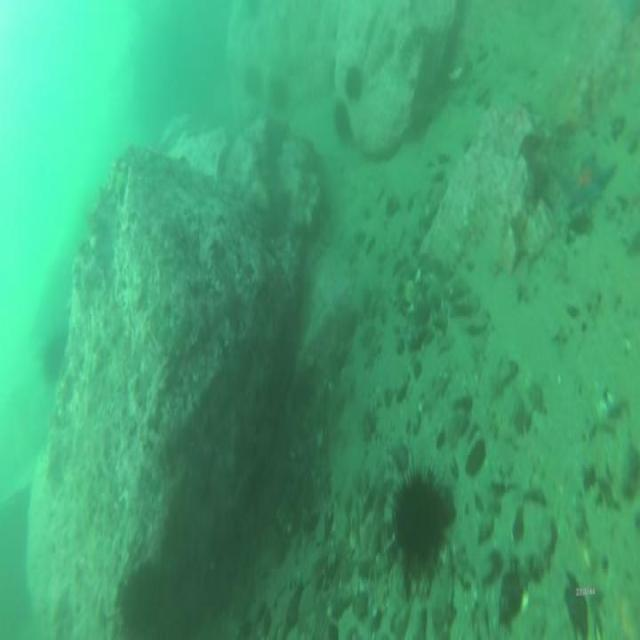echinus: (393, 474, 443, 563), (41, 337, 65, 378), (332, 108, 349, 142), (268, 79, 286, 111), (345, 68, 363, 98), (242, 69, 260, 95)
starfish: (555, 148, 617, 204)
